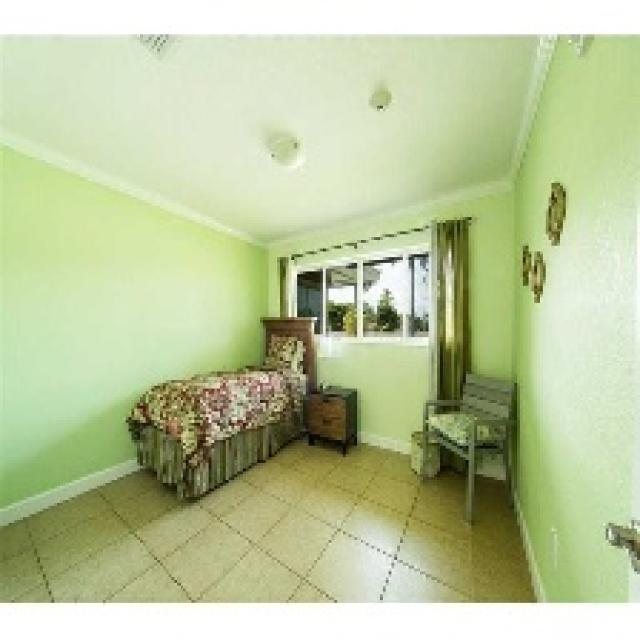Bed: (126, 314, 317, 500)
